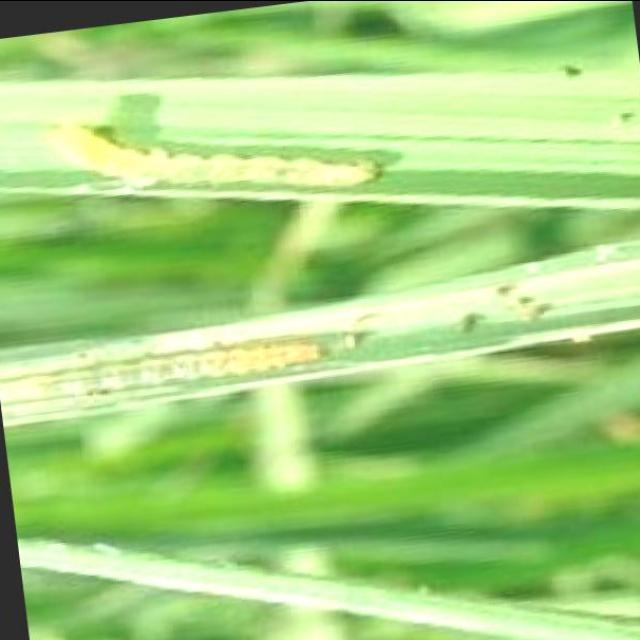leaf folder: (45, 121, 379, 186), (21, 336, 327, 393)
